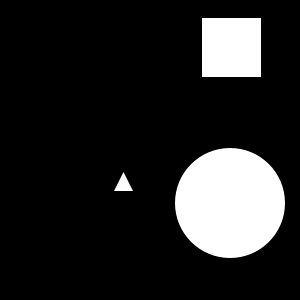circle: (202, 18, 261, 77)
rectangle: (175, 148, 285, 258)
triangle: (114, 172, 133, 191)
